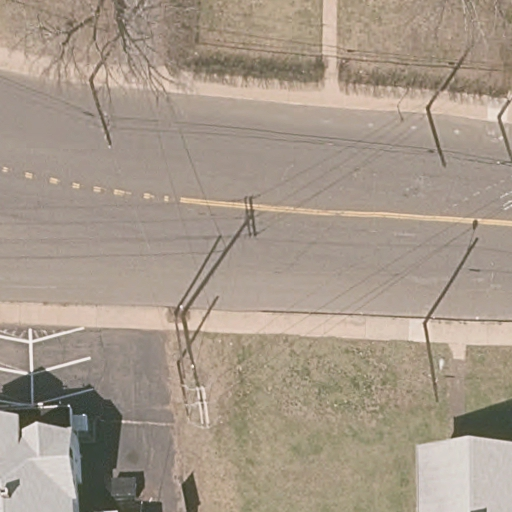DT: (171, 308, 213, 429), (87, 80, 116, 147), (420, 320, 444, 399), (426, 107, 448, 167), (495, 114, 512, 165)
